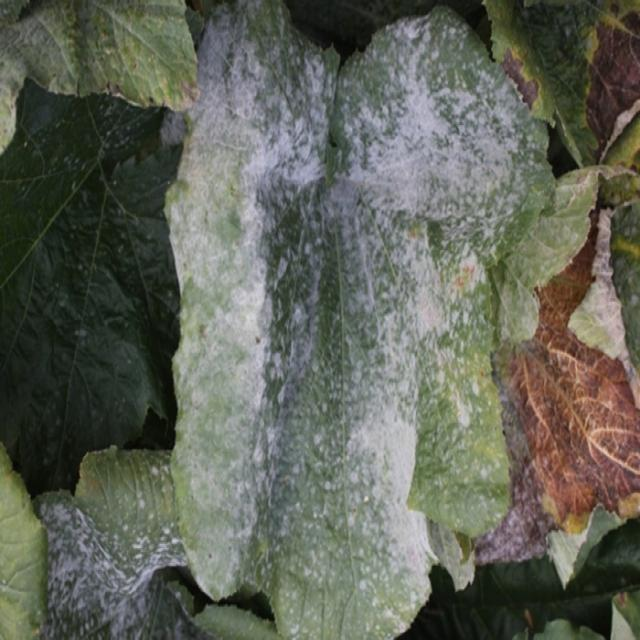Powdery Mildew: (160, 0, 555, 639)
